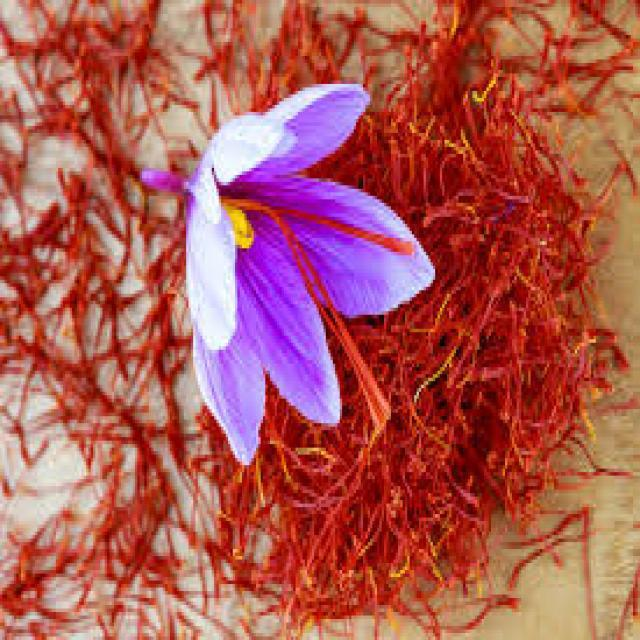Flower: (154, 101, 440, 460)
stigma: (292, 231, 391, 424), (279, 192, 416, 263)
